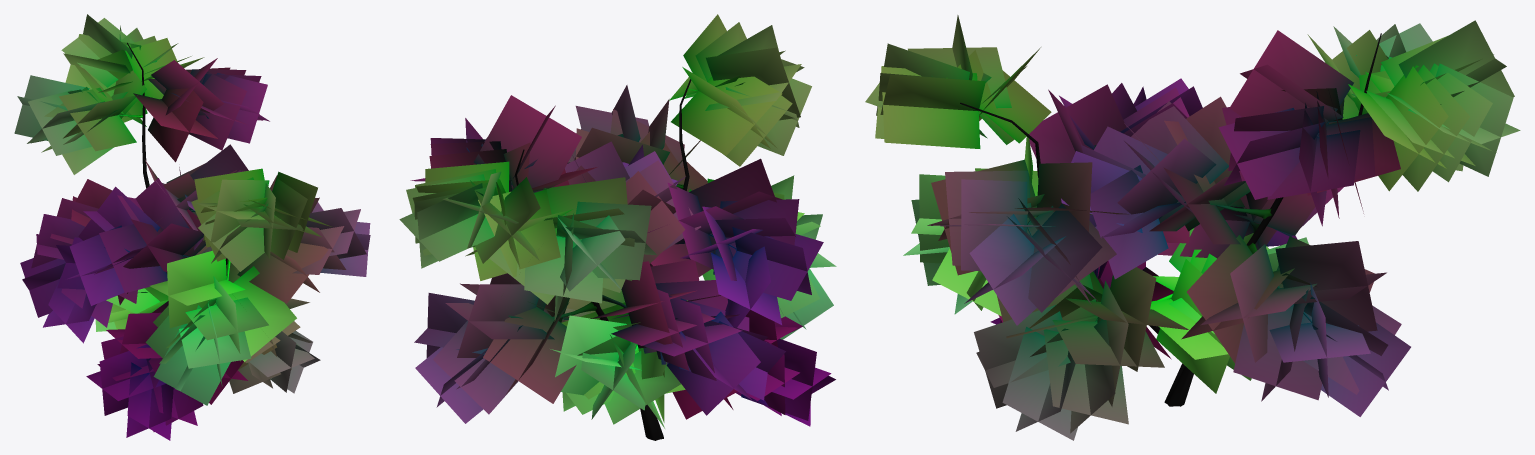
File: M_P14_Tree_9.fbx
3 renders of one model, left to right at view 1: azimuth 30°, elevation 25°; view 2: azimuth 150°, elevation 25°; view 3: azimuth 270°, elevation 25°, orthographic. The views are drawn at different scales.
Visible parts, largest first — view 1: Tree_9; view 2: Tree_9; view 3: Tree_9.
Boxes of the visible parts, left/top/right/bottom form: Tree_9: left=14, top=14, right=370, bottom=440; Tree_9: left=399, top=14, right=836, bottom=440; Tree_9: left=865, top=15, right=1520, bottom=440.
Size of the model in its own units: 427 by 449 by 650.
